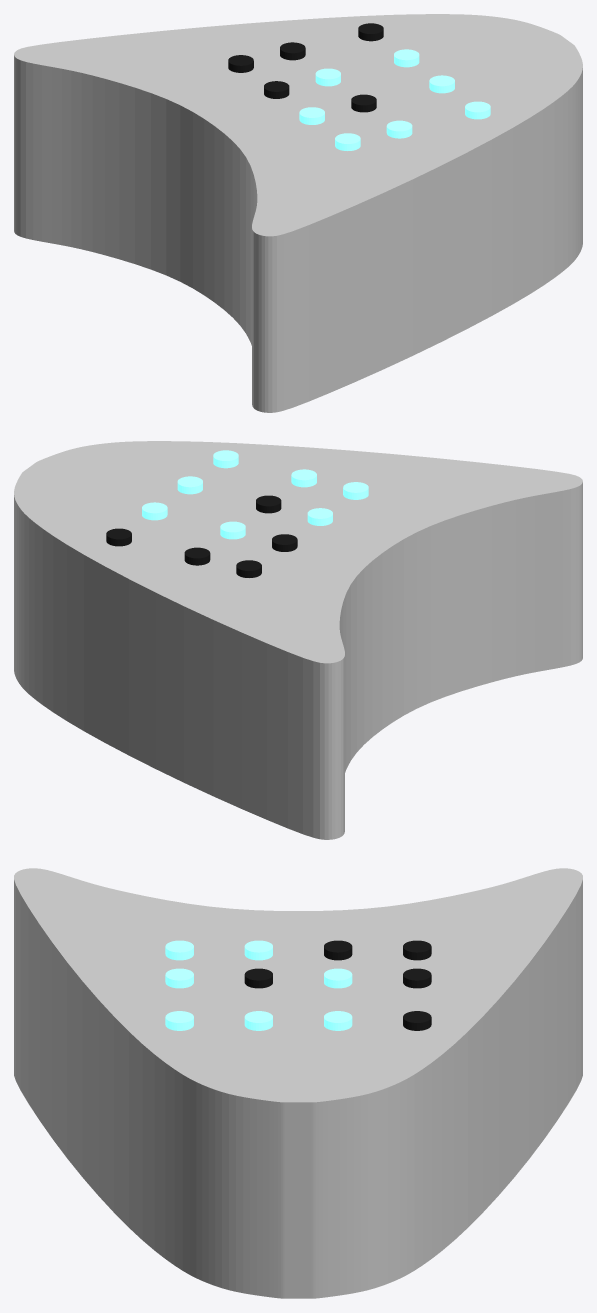
The picture shows the model from 3 angles, top to bottom: view 1: azimuth 30°, elevation 25°; view 2: azimuth 150°, elevation 25°; view 3: azimuth 270°, elevation 25°; orthographic projection. The views are drawn at different scales.
Visible parts, largest first — view 1: gate_or, Cylinder.front; view 2: gate_or, Cylinder.front; view 3: gate_or, Cylinder.front.
Part boxes in pixels (bbox=[...]): gate_or: bbox=[14, 14, 582, 412]; Cylinder.front: bbox=[228, 23, 490, 150]; gate_or: bbox=[14, 441, 582, 839]; Cylinder.front: bbox=[106, 450, 368, 577]; gate_or: bbox=[14, 868, 582, 1298]; Cylinder.front: bbox=[165, 940, 431, 1030].
Bounding box in the file's own units: 35 × 14.78 × 35.94.
